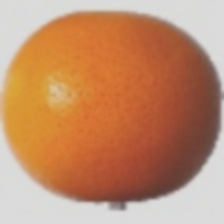grapes: (6, 37, 187, 195)
